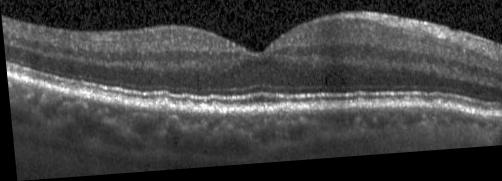retinal_drusen: (149, 99, 173, 114), (178, 102, 193, 115), (351, 101, 363, 114), (206, 103, 219, 114), (430, 108, 439, 114), (442, 110, 448, 116)
